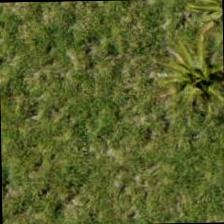Kelapa_Sawit: (149, 27, 223, 119)
